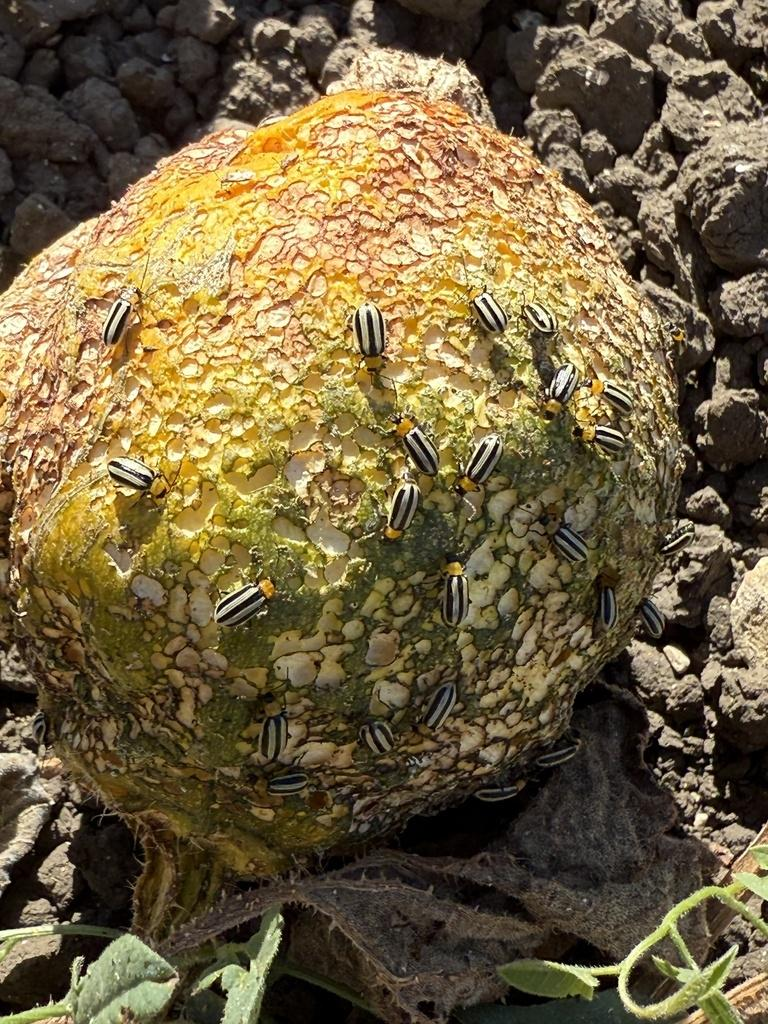potato_beetle: (77, 433, 191, 520), (88, 253, 158, 368), (199, 558, 293, 638), (342, 284, 408, 384), (380, 395, 450, 486), (433, 546, 486, 652), (456, 411, 513, 507), (371, 464, 423, 556), (248, 701, 299, 766)
